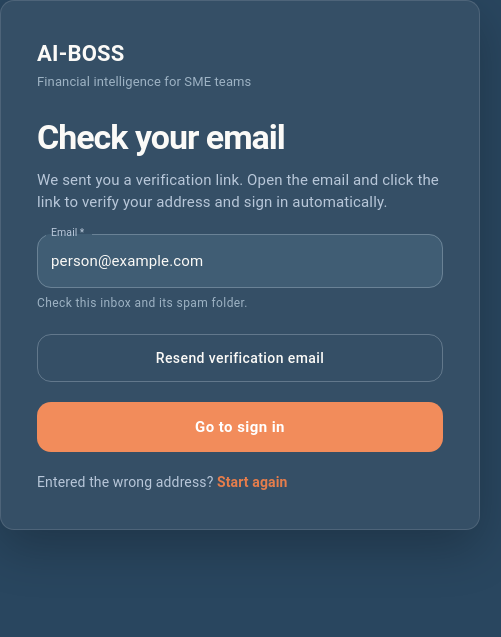
VerifyEmailNotice › can resend the verification email
The image size is (501, 637).
Expected: the field showing "person@example.com" is shown, left=37, top=234, right=443, bottom=288
Click the button "Resend verification email" at [240, 358], box left=37, top=334, right=443, bottom=382
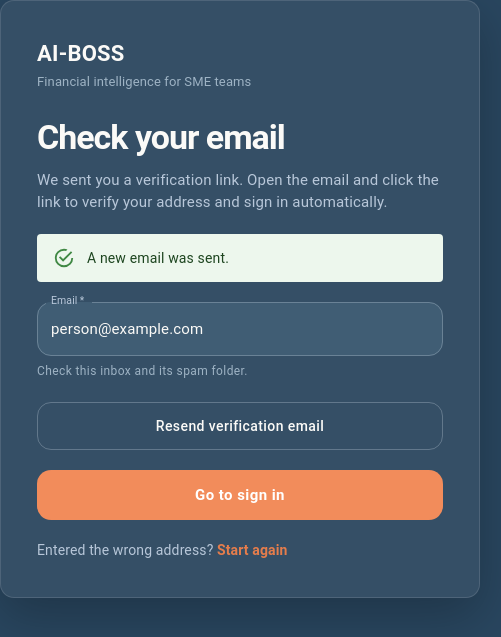
Now the text "A new email was sent." is shown, box left=87, top=250, right=229, bottom=266
